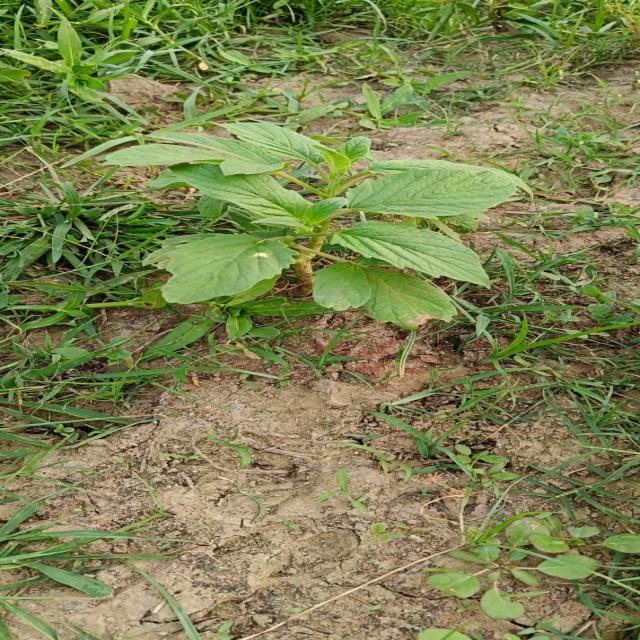plant: (101, 122, 525, 328)
